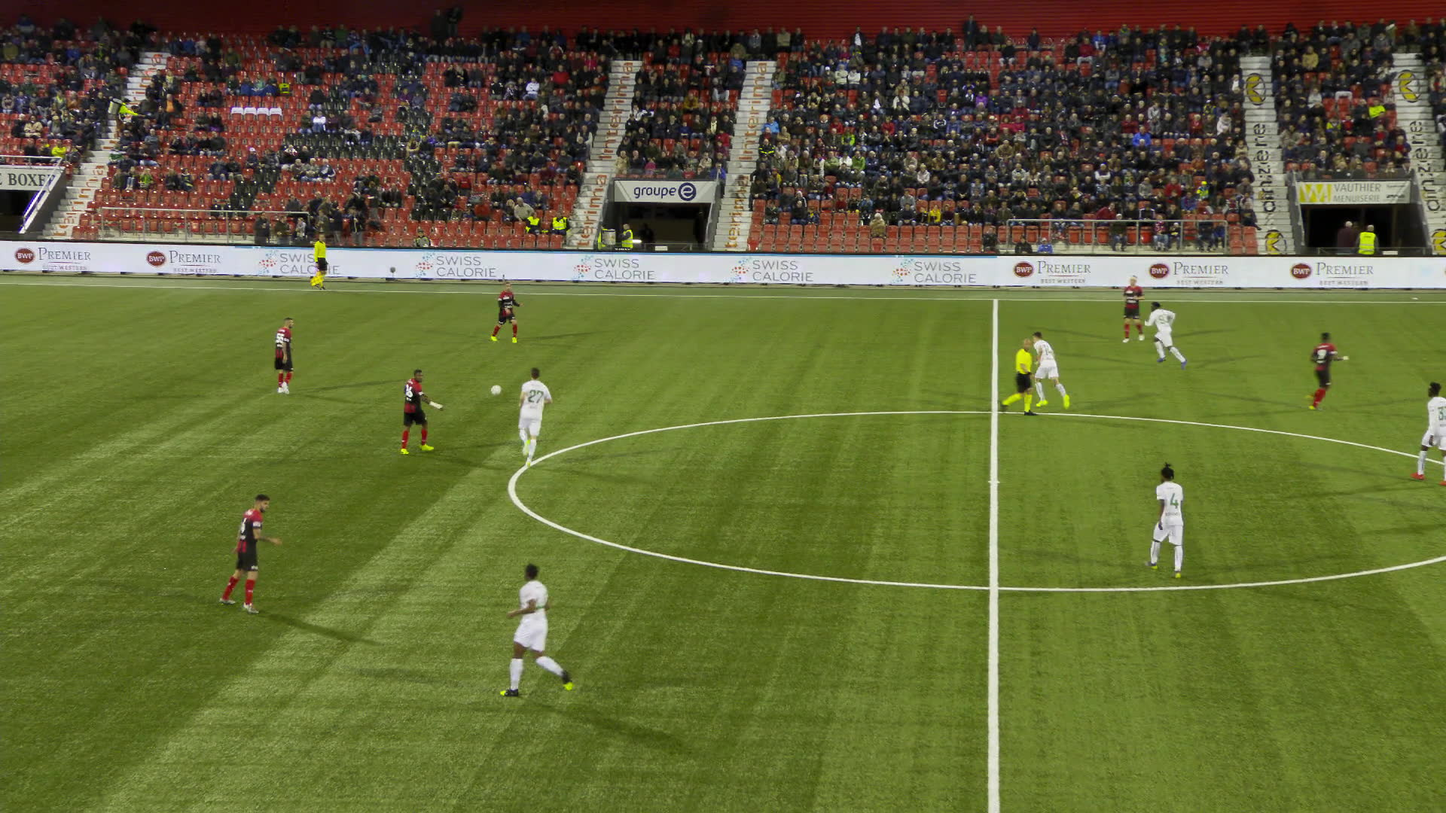ball: (490, 384, 502, 394)
player: (499, 562, 574, 696), (218, 492, 282, 613), (1143, 461, 1185, 578), (400, 367, 444, 454), (1409, 381, 1445, 486), (517, 366, 554, 467), (1304, 330, 1350, 411), (1139, 300, 1187, 370), (1031, 330, 1069, 409), (490, 280, 524, 343), (273, 316, 294, 393), (1122, 274, 1145, 343)
referee: (999, 337, 1038, 416), (309, 233, 329, 289)
